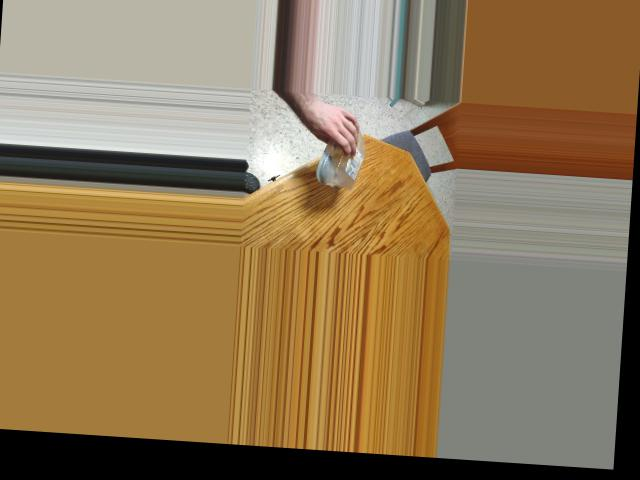cheese: (315, 114, 365, 170)
